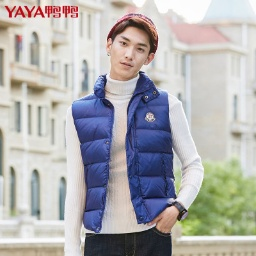face: (103, 11, 161, 78)
